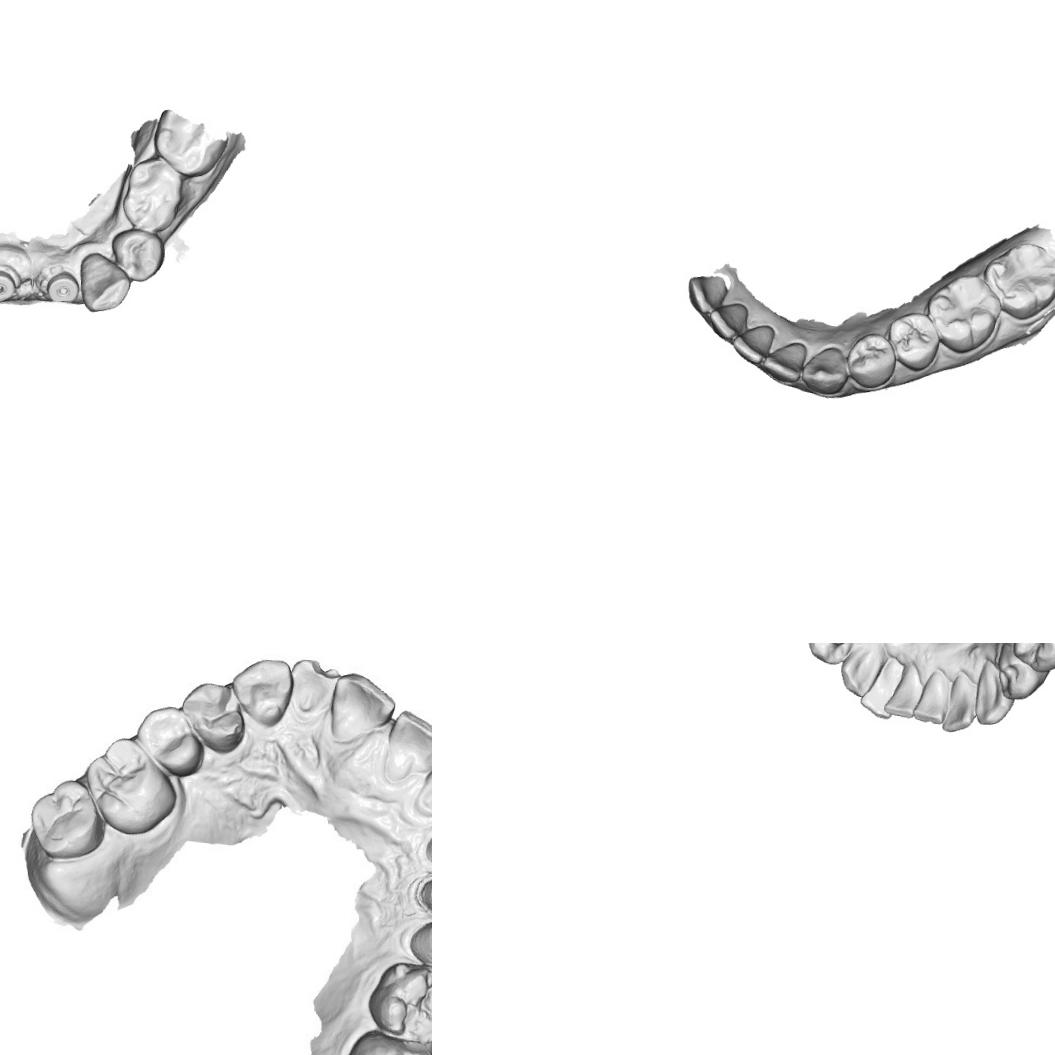canine: (233, 656, 296, 724), (76, 250, 132, 314), (836, 643, 892, 699), (971, 657, 1016, 726), (799, 341, 850, 396)
implant: (43, 269, 82, 304), (0, 267, 15, 303)
incisor: (330, 670, 396, 742), (377, 705, 432, 781), (285, 651, 339, 723), (857, 653, 906, 721), (938, 669, 979, 734), (882, 662, 926, 720), (682, 268, 732, 316), (728, 320, 776, 368), (760, 339, 808, 386), (911, 666, 949, 725), (705, 296, 750, 342), (416, 758, 432, 822)
molar: (78, 732, 182, 838), (922, 271, 1005, 356), (24, 781, 110, 861), (980, 238, 1055, 322), (366, 957, 432, 1046), (150, 108, 229, 179), (119, 154, 187, 234), (344, 1029, 432, 1055)
premolar: (131, 705, 206, 779), (182, 680, 250, 756), (884, 309, 940, 374), (107, 225, 168, 284), (993, 643, 1052, 701), (844, 331, 899, 390), (408, 912, 432, 974), (1010, 643, 1055, 674), (803, 643, 859, 667)
